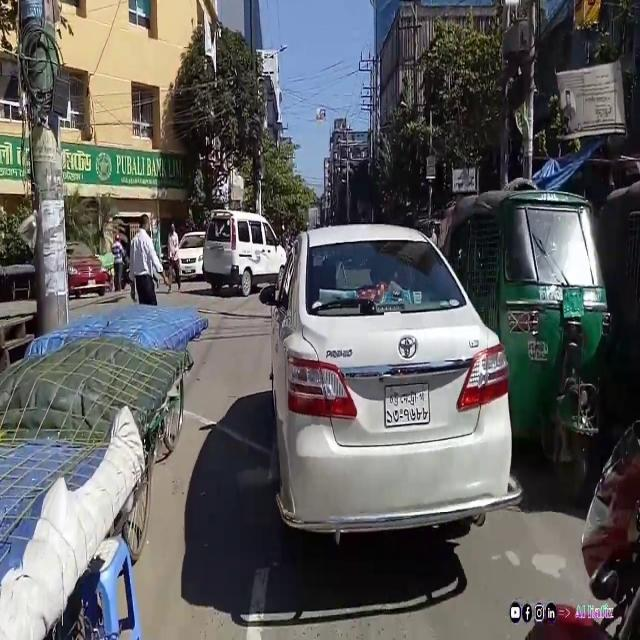white: (270, 230, 522, 536), (208, 202, 288, 298), (174, 229, 210, 279)
